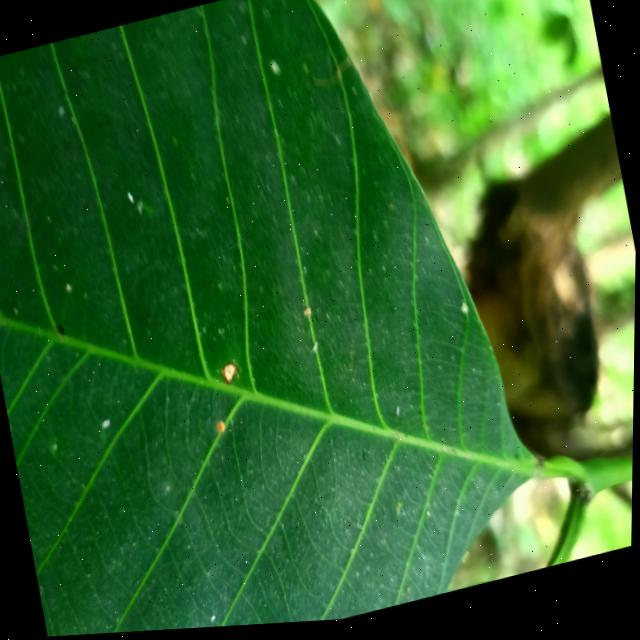Colletotrichum: (220, 363, 241, 389)
